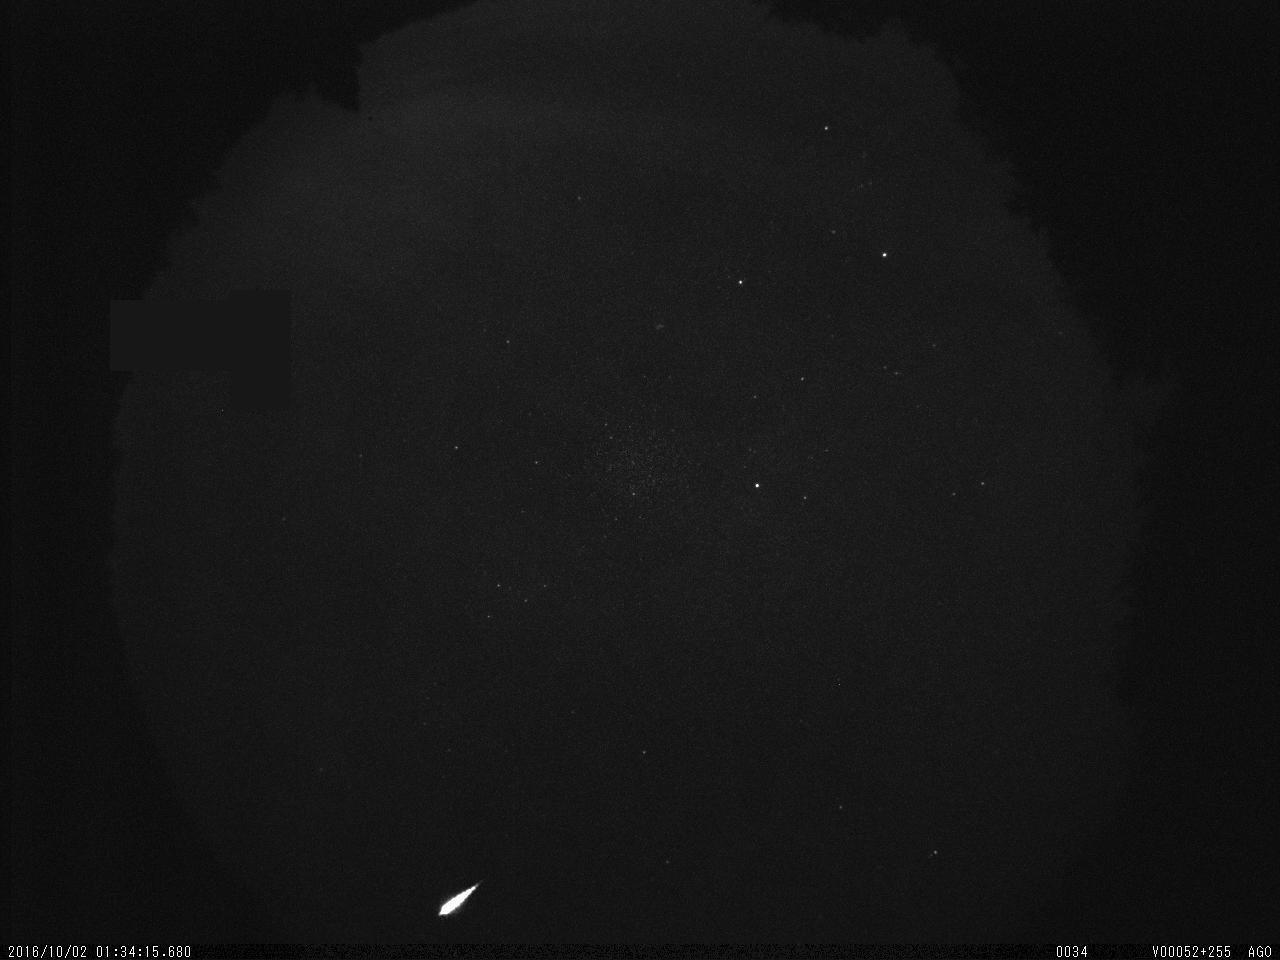meteor: (423, 873, 502, 928)
